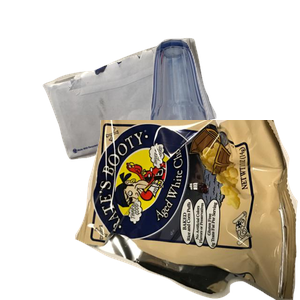glass: (147, 36, 300, 168)
paper: (40, 35, 249, 187)
plastic: (92, 176, 257, 300)
trash: (75, 120, 300, 300)
